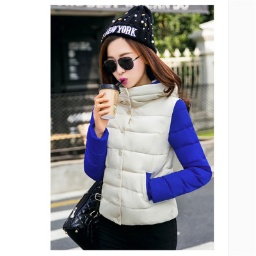face: (93, 26, 183, 100)
